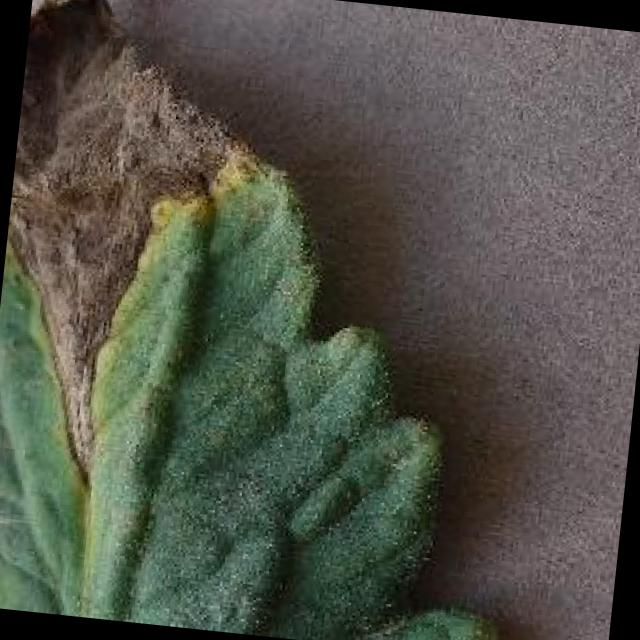Tomato_Early_Blight: (0, 0, 301, 508)
